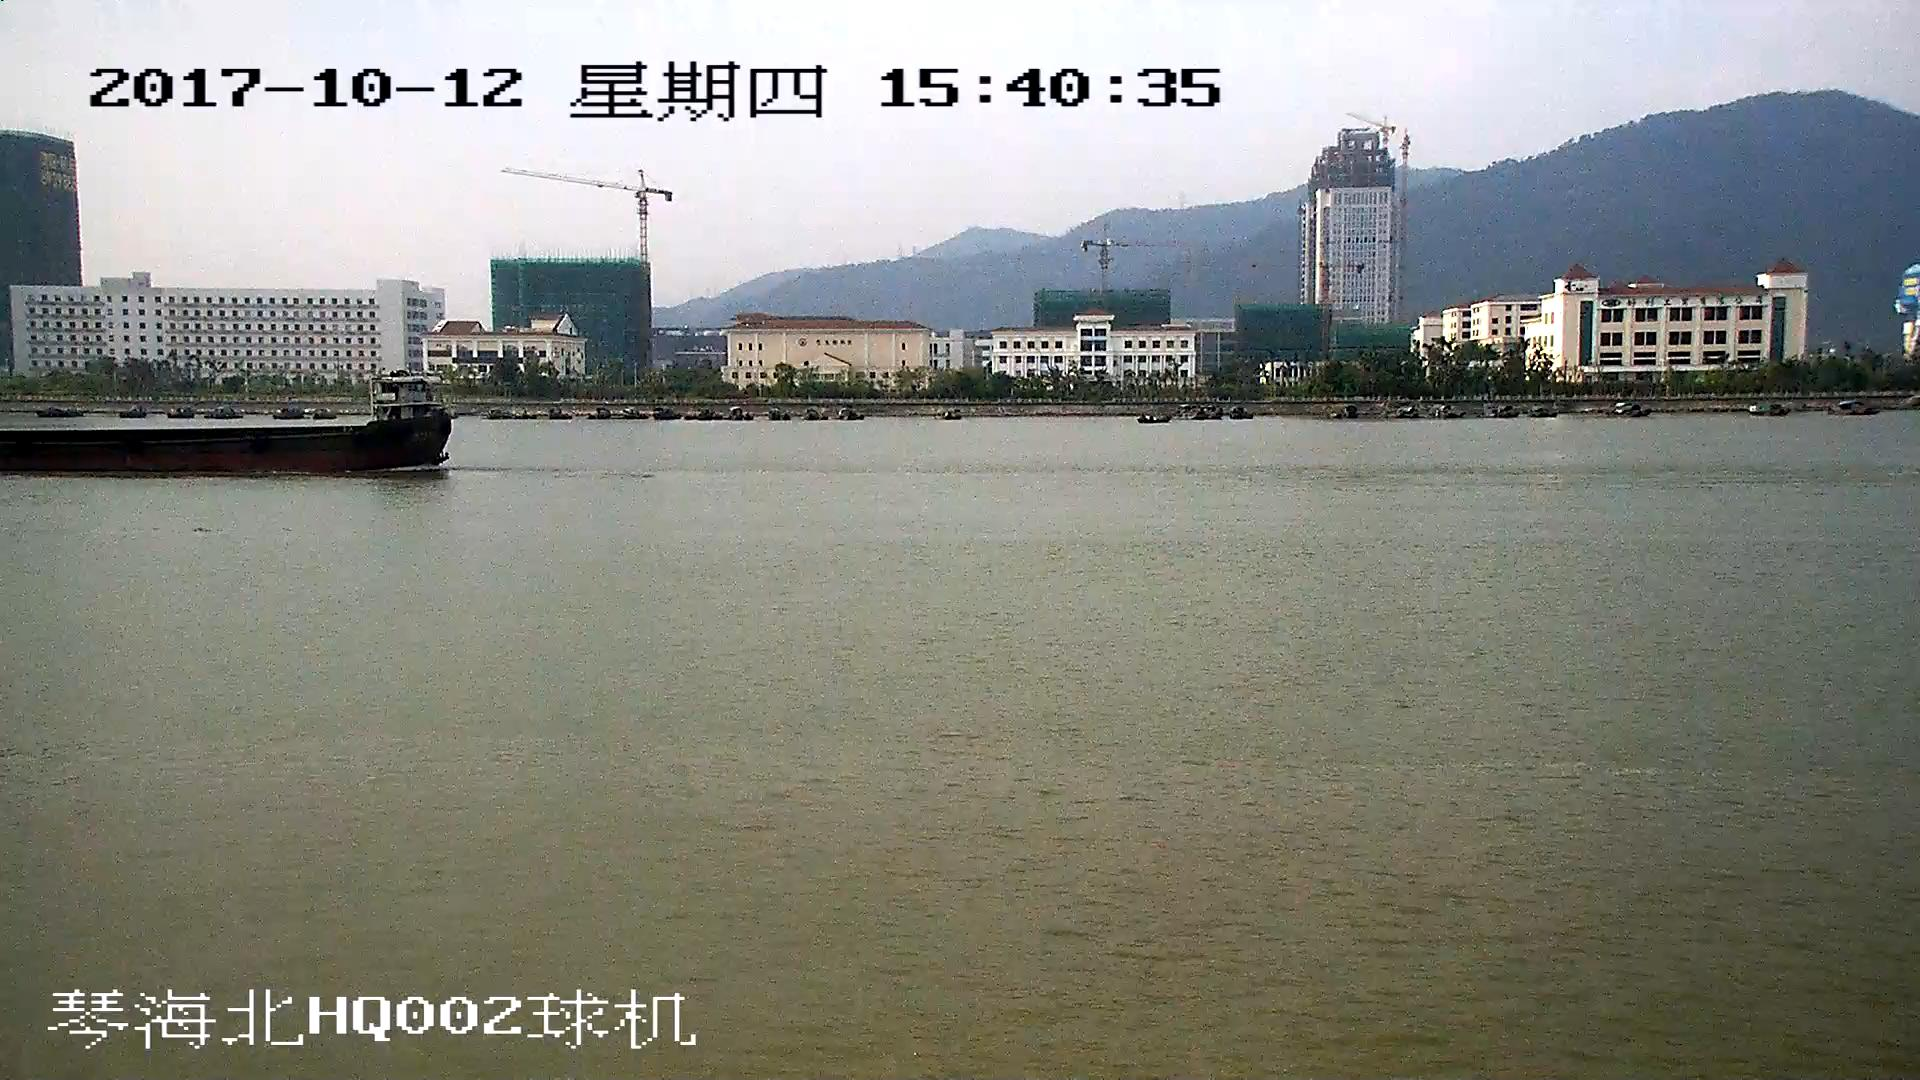general cargo ship: (1, 377, 452, 473)
